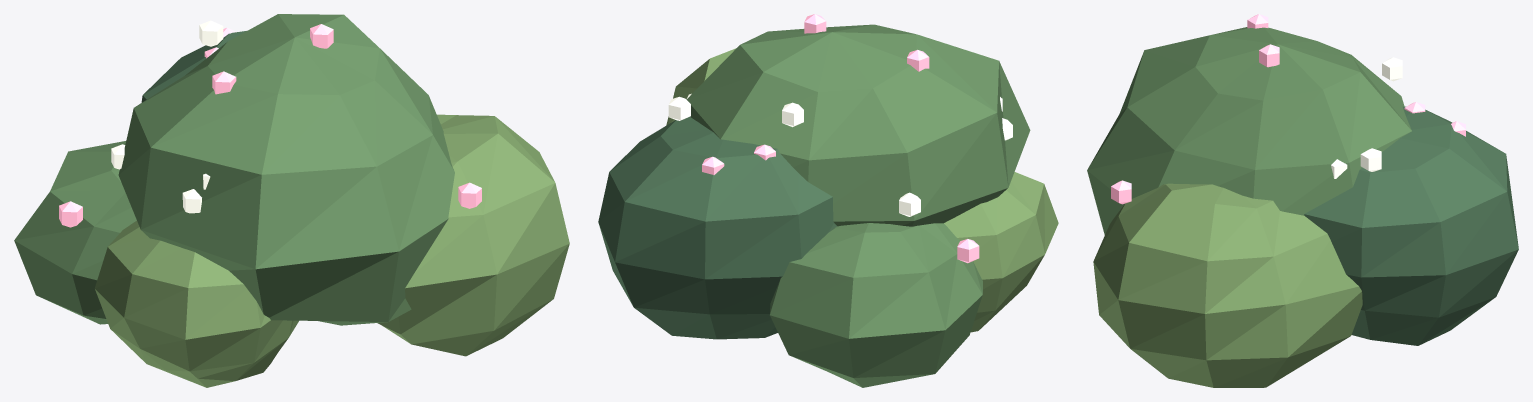
File: bush_flower.glb
3 views of the same model, side by side, from view 1: azimuth 30°, elevation 25°; view 2: azimuth 150°, elevation 25°; view 3: azimuth 270°, elevation 25° (orthographic). The views are drawn at different scales.
Parts seen in each view (by area): view 1: bush_flower; view 2: bush_flower; view 3: bush_flower.
Part boxes in pixels (x1,y1,x2,y2): bush_flower: (14, 14, 569, 387); bush_flower: (598, 14, 1058, 387); bush_flower: (1087, 14, 1518, 387).
Size of the model in its own units: 1.83 by 1.34 by 1.78.
